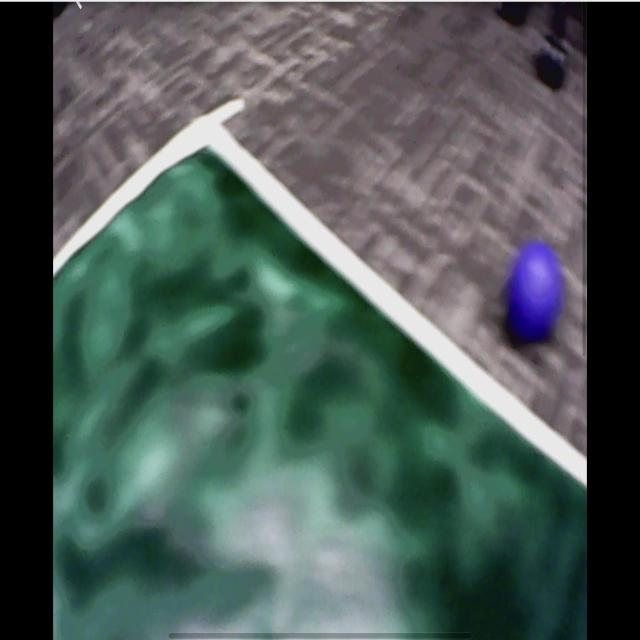ball: (508, 244, 566, 340)
